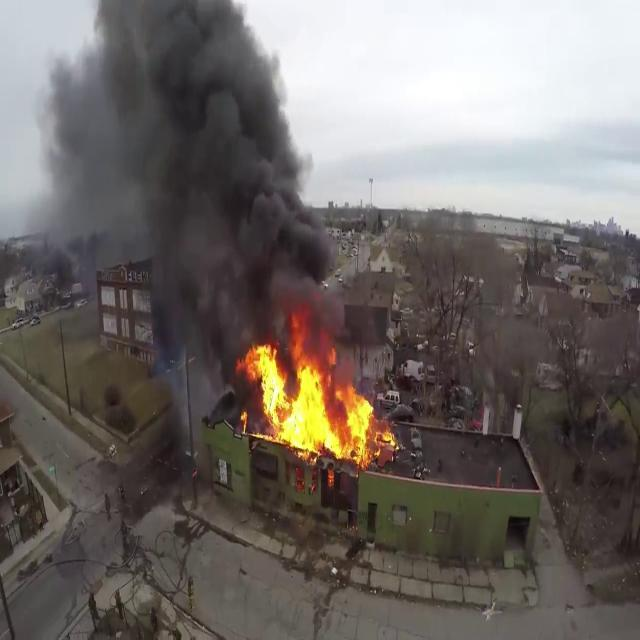Fire: (239, 332, 395, 468)
Smoke: (36, 0, 348, 353)
